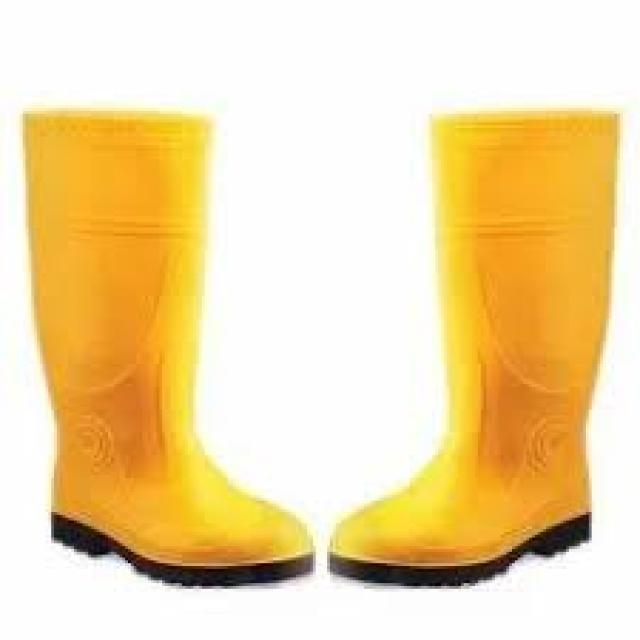shoes: (329, 112, 619, 584), (27, 112, 314, 584)
